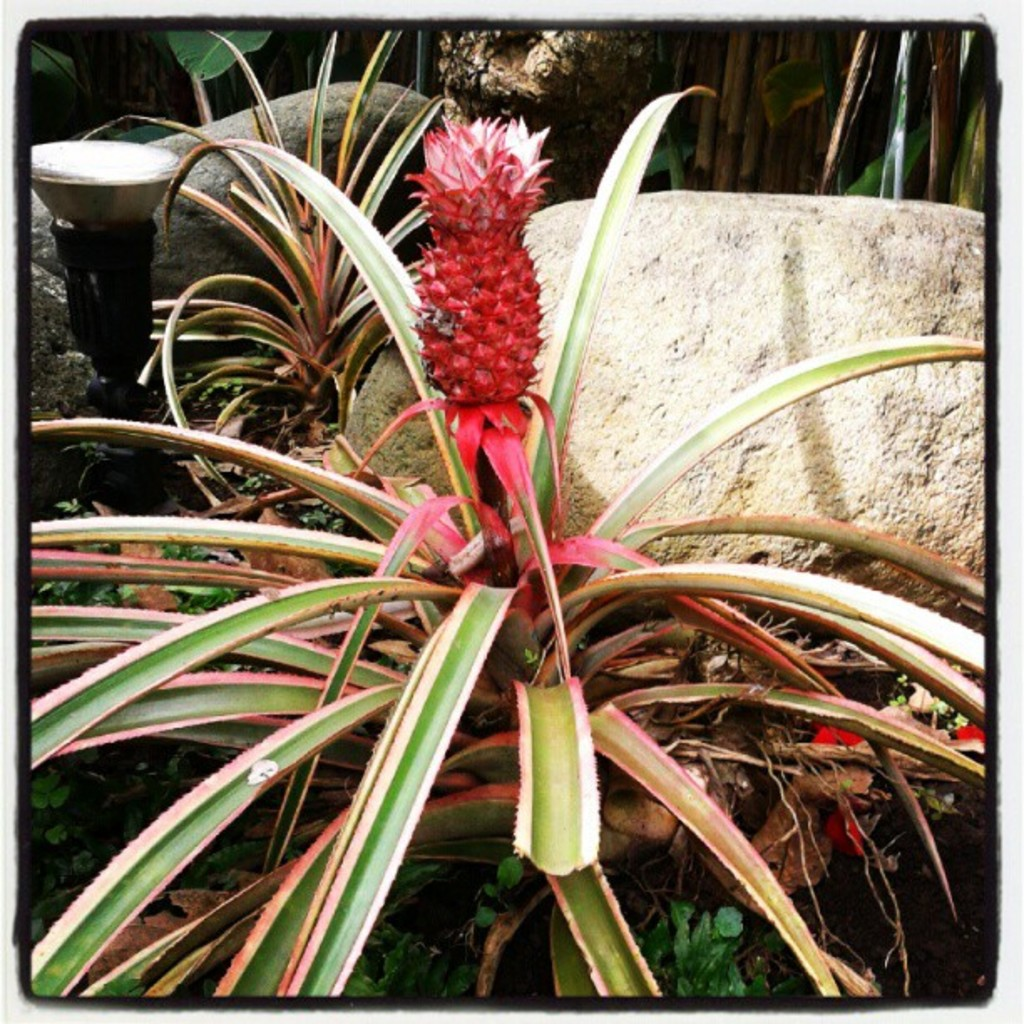Tree: (439, 29, 665, 204)
